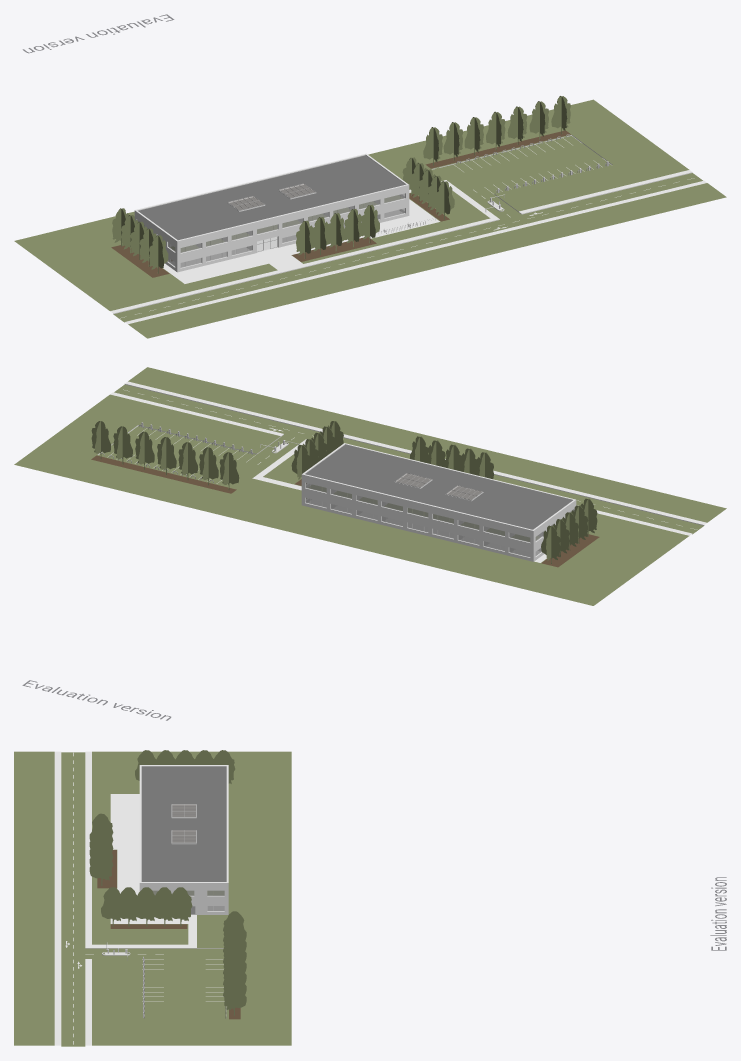
The picture shows the model from 3 angles, top to bottom: view 1: azimuth 30°, elevation 25°; view 2: azimuth 150°, elevation 25°; view 3: azimuth 270°, elevation 25°; orthographic projection. The views are drawn at different scales.
Parts seen in each view (by area): view 1: 3A8hY1UoD7JhnLeZeDyU4B, 3A8hY1UoD7JhnLeZeDyU2J, 0CWDnGbzX4Sf1BesT9Tj4o, 3A8hY1UoD7JhnLeZeDyUs3, 12bPoIwbv0tBGfPfnvCUc2, 3A8hY1UoD7JhnLeZeDyQc9, 3A8hY1UoD7JhnLeZeDyU2I, 0P898JVsX6VQGfAj0lC8$w, 3LJODRGPbDdfXHXShFLAxF, 3LJODRGPbDdfXHXShFLAnr, 12bPoIwbv0tBGfPfnvCUau, 0P898JVsX6VQGfAj0lC8z9 (+6 smaller); view 2: 3A8hY1UoD7JhnLeZeDyU4B, 0CWDnGbzX4Sf1BesT9Tj4o, 3A8hY1UoD7JhnLeZeDyU2J, 12bPoIwbv0tBGfPfnvCUYu, 3A8hY1UoD7JhnLeZeDyUs3, 3A8hY1UoD7JhnLeZeDyU2I, 0P898JVsX6VQGfAj0lC8$w, 3LJODRGPbDdfXHXShFLAnr, 3LJODRGPbDdfXHXShFLAxF, 12bPoIwbv0tBGfPfnvCUau, 3A8hY1UoD7JhnLeZeDyQc9; view 3: 3A8hY1UoD7JhnLeZeDyU4B, 3A8hY1UoD7JhnLeZeDyU2J, 0CWDnGbzX4Sf1BesT9Tj4o, 3A8hY1UoD7JhnLeZeDyUs3, 12bPoIwbv0tBGfPfnvCUW2, 3A8hY1UoD7JhnLeZeDyQc9, 3A8hY1UoD7JhnLeZeDyQqa, 0P898JVsX6VQGfAj0lC8w9, 3A8hY1UoD7JhnLeZeDyQpf, 3A8hY1UoD7JhnLeZeDyQqC, 3A8hY1UoD7JhnLeZeDyQqq, 3A8hY1UoD7JhnLeZeDyQq4 (+2 smaller).
Boxes of the visible parts, x1=… form: 3A8hY1UoD7JhnLeZeDyU4B: x1=14, y1=99, x2=726, y2=338; 3A8hY1UoD7JhnLeZeDyU2J: x1=113, y1=136, x2=702, y2=322; 0CWDnGbzX4Sf1BesT9Tj4o: x1=138, y1=155, x2=405, y2=240; 3A8hY1UoD7JhnLeZeDyUs3: x1=110, y1=170, x2=706, y2=324; 12bPoIwbv0tBGfPfnvCUc2: x1=176, y1=184, x2=408, y2=272; 3A8hY1UoD7JhnLeZeDyQc9: x1=111, y1=193, x2=449, y2=277; 3A8hY1UoD7JhnLeZeDyU2I: x1=113, y1=135, x2=692, y2=322; 0P898JVsX6VQGfAj0lC8$w: x1=425, y1=130, x2=570, y2=168; 3LJODRGPbDdfXHXShFLAxF: x1=170, y1=195, x2=402, y2=251; 3LJODRGPbDdfXHXShFLAnr: x1=170, y1=210, x2=401, y2=266; 12bPoIwbv0tBGfPfnvCUau: x1=134, y1=210, x2=177, y2=271; 0P898JVsX6VQGfAj0lC8z9: x1=464, y1=117, x2=483, y2=158; 3A8hY1UoD7JhnLeZeDyU4B: x1=14, y1=367, x2=726, y2=605; 0CWDnGbzX4Sf1BesT9Tj4o: x1=305, y1=445, x2=572, y2=529; 3A8hY1UoD7JhnLeZeDyU2J: x1=98, y1=384, x2=703, y2=533; 12bPoIwbv0tBGfPfnvCUYu: x1=301, y1=474, x2=532, y2=561; 3A8hY1UoD7JhnLeZeDyUs3: x1=110, y1=381, x2=706, y2=562; 3A8hY1UoD7JhnLeZeDyU2I: x1=97, y1=384, x2=704, y2=534; 0P898JVsX6VQGfAj0lC8$w: x1=91, y1=455, x2=236, y2=493; 3LJODRGPbDdfXHXShFLAnr: x1=308, y1=499, x2=539, y2=556; 3LJODRGPbDdfXHXShFLAxF: x1=308, y1=485, x2=539, y2=541; 12bPoIwbv0tBGfPfnvCUau: x1=532, y1=500, x2=575, y2=561; 3A8hY1UoD7JhnLeZeDyQc9: x1=295, y1=479, x2=599, y2=567; 3A8hY1UoD7JhnLeZeDyU4B: x1=14, y1=751, x2=291, y2=1045; 3A8hY1UoD7JhnLeZeDyU2J: x1=61, y1=752, x2=227, y2=1046; 0CWDnGbzX4Sf1BesT9Tj4o: x1=141, y1=766, x2=226, y2=881; 3A8hY1UoD7JhnLeZeDyUs3: x1=54, y1=751, x2=196, y2=1045; 12bPoIwbv0tBGfPfnvCUW2: x1=139, y1=882, x2=227, y2=914; 3A8hY1UoD7JhnLeZeDyQc9: x1=97, y1=850, x2=187, y2=928; 3A8hY1UoD7JhnLeZeDyQqa: x1=101, y1=887, x2=124, y2=926; 0P898JVsX6VQGfAj0lC8w9: x1=223, y1=976, x2=246, y2=1016; 3A8hY1UoD7JhnLeZeDyQpf: x1=89, y1=846, x2=113, y2=885; 3A8hY1UoD7JhnLeZeDyQqC: x1=152, y1=887, x2=176, y2=926; 3A8hY1UoD7JhnLeZeDyQqq: x1=134, y1=887, x2=158, y2=926; 3A8hY1UoD7JhnLeZeDyQq4: x1=168, y1=887, x2=192, y2=926.
Size of the model in its own units: 159 by 13.82 by 163.
